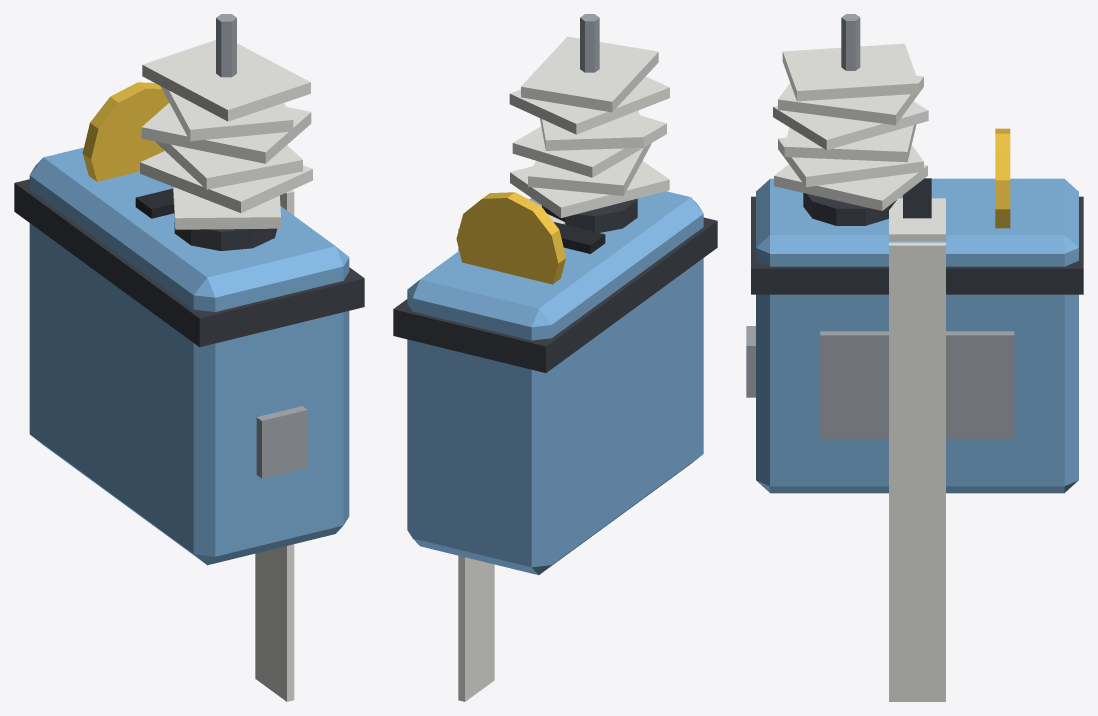
File: coffee_m1_2.glb
3 renders of one model, left to right at view 1: azimuth 30°, elevation 25°; view 2: azimuth 150°, elevation 25°; view 3: azimuth 270°, elevation 25°, orthographic. The views are drawn at different scales.
Parts seen in each view (by area): view 1: coffee_m1_2_mesh; view 2: coffee_m1_2_mesh; view 3: coffee_m1_2_mesh.
Boxes of the visible parts, x1,y1,x2,y2 form: coffee_m1_2_mesh: (14, 14, 364, 701); coffee_m1_2_mesh: (393, 14, 717, 701); coffee_m1_2_mesh: (746, 14, 1083, 701).
Size of the model in its own units: 0.187 by 0.75 by 0.355.
